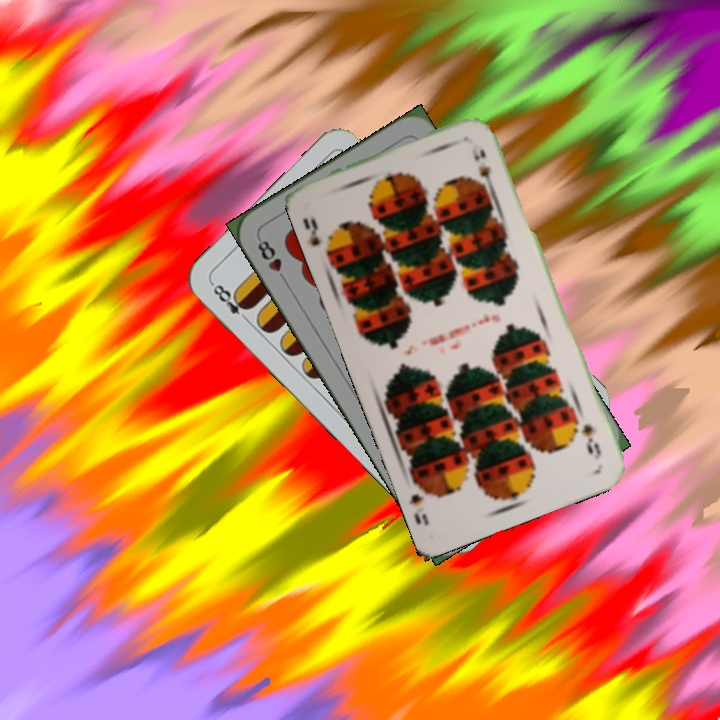E8: (207, 279, 253, 326)
H8: (253, 233, 290, 286)
S9: (298, 213, 338, 259), (578, 420, 604, 462)
